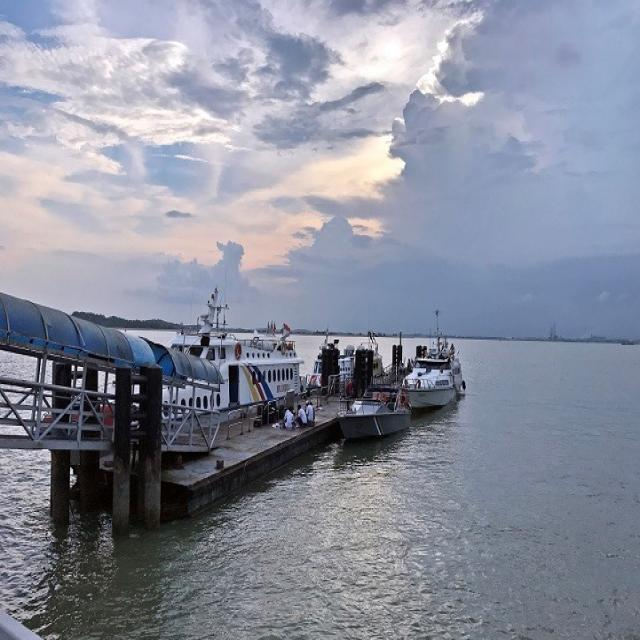houseboat: (399, 330, 467, 417), (336, 363, 404, 441)
